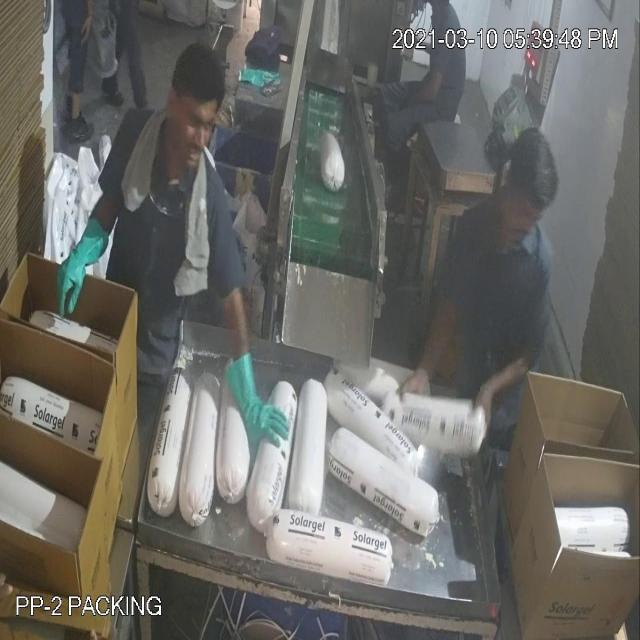gloves: (215, 342, 299, 465), (46, 209, 114, 326)
no-gloves: (385, 284, 461, 410), (471, 340, 543, 434)
